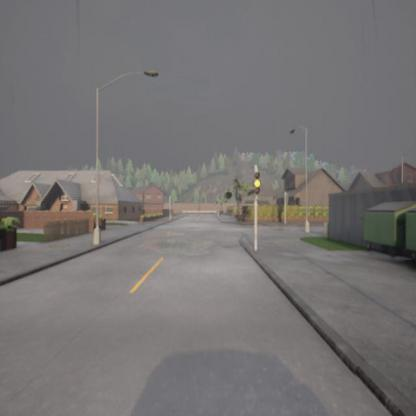traffic_light_orange: (254, 172, 260, 195)
